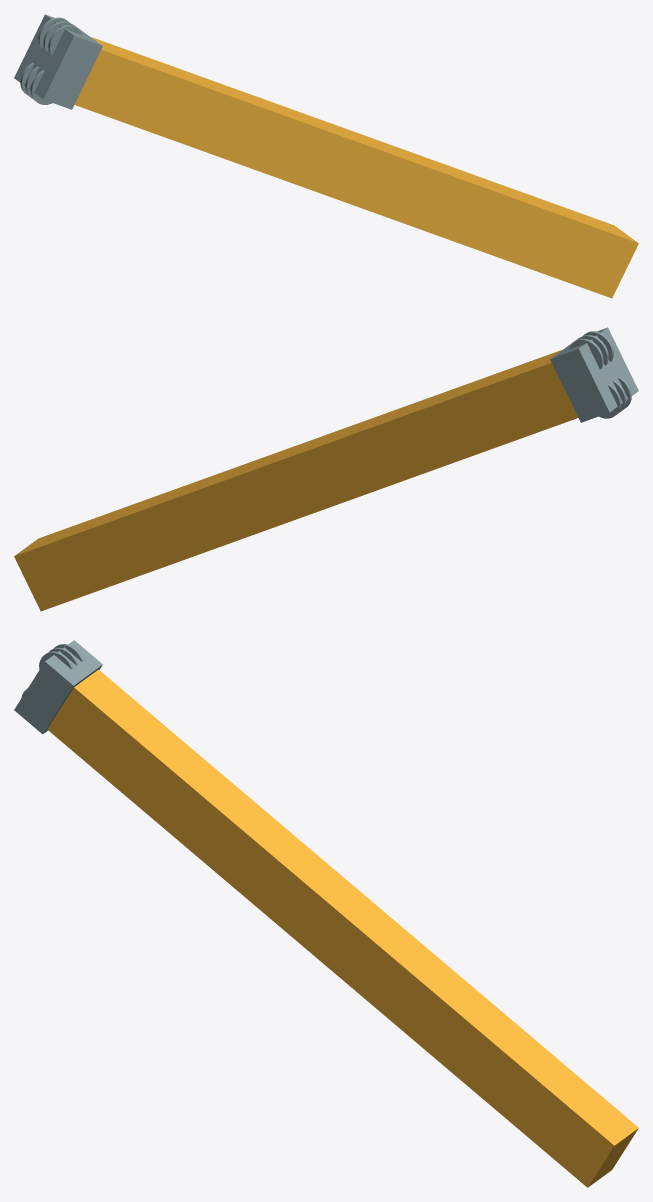
The model's file is crane_boom03.obj.
3 renders of one model, top to bottom at view 1: azimuth 30°, elevation 25°; view 2: azimuth 150°, elevation 25°; view 3: azimuth 330°, elevation 25°, orthographic.
Parts seen in each view (by area): view 1: Body.014_ID1026, Frame_-_Top_Pully_s_ID196; view 2: Body.014_ID1026, Frame_-_Top_Pully_s_ID196; view 3: Body.014_ID1026, Frame_-_Top_Pully_s_ID196.
Part boxes in pixels (x1=…): Body.014_ID1026: x1=74, y1=37, x2=638, y2=298; Frame_-_Top_Pully_s_ID196: x1=14, y1=14, x2=102, y2=109; Body.014_ID1026: x1=14, y1=350, x2=578, y2=611; Frame_-_Top_Pully_s_ID196: x1=550, y1=327, x2=638, y2=422; Body.014_ID1026: x1=47, y1=669, x2=638, y2=1187; Frame_-_Top_Pully_s_ID196: x1=14, y1=640, x2=102, y2=734.
Bounding box in the file's own units: 1.1 × 0.6992 × 0.0932.
